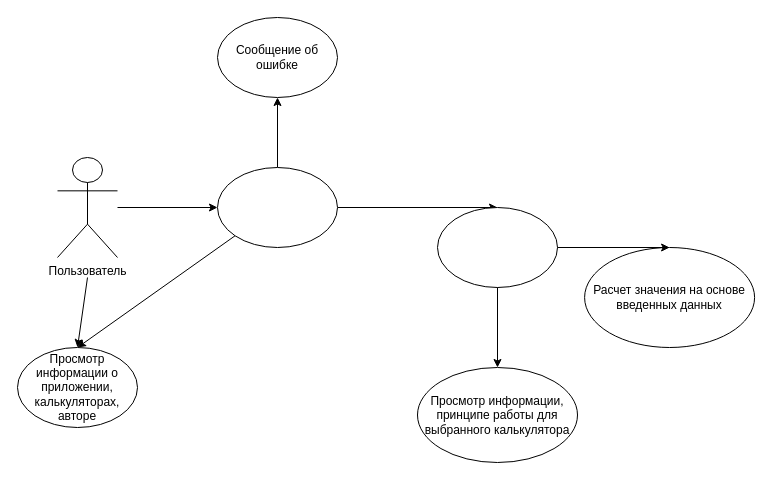
The diagram is 773 pixels wide and 480 high, and some of its shapes have lost their labels. Each missing label, with the centre of its shape:
Авторизация: [277,207]
Выбор калькулятора: [497,247]
